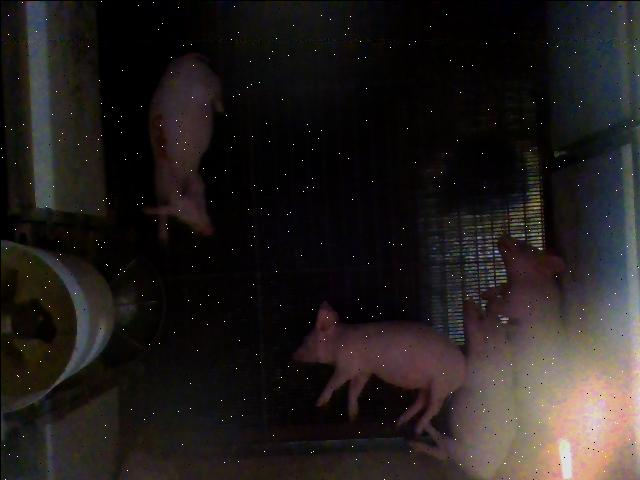pig-3: (141, 51, 222, 242)
